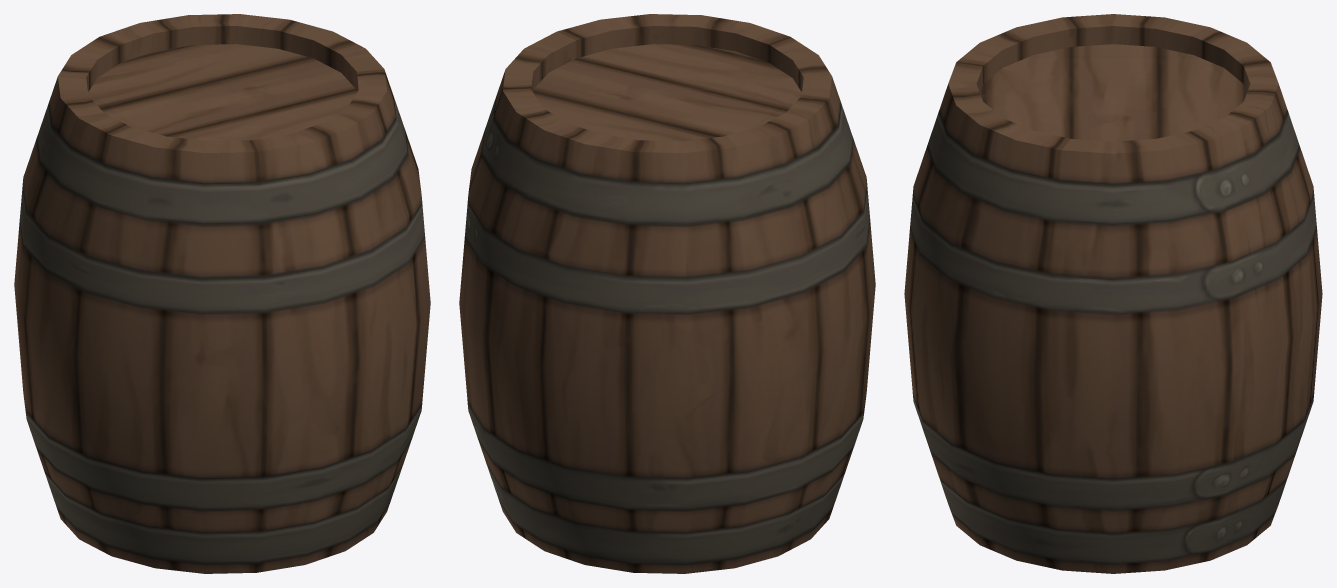
The model's file is varil.fbx.
3 views of the same model, side by side, from view 1: azimuth 30°, elevation 25°; view 2: azimuth 150°, elevation 25°; view 3: azimuth 270°, elevation 25° (orthographic).
Visible parts, largest first — view 1: pCylinder1; view 2: pCylinder1; view 3: pCylinder1.
Boxes of the visible parts, left/top/right/bottom form: pCylinder1: left=14, top=14, right=430, bottom=573; pCylinder1: left=459, top=14, right=875, bottom=573; pCylinder1: left=904, top=14, right=1322, bottom=573.
Size of the model in its own units: 60.71 by 67.32 by 60.71.
Materials: 1 (1 with a texture image).
